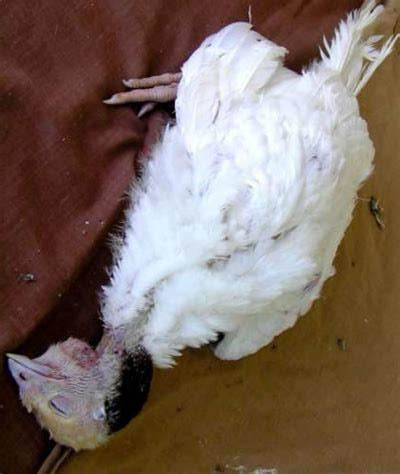Unhealthy: (10, 7, 385, 448)
